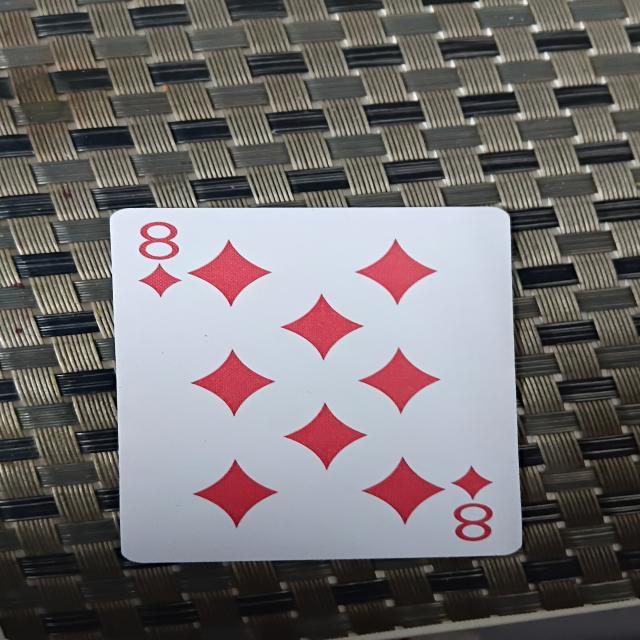8D: (114, 202, 530, 562)
